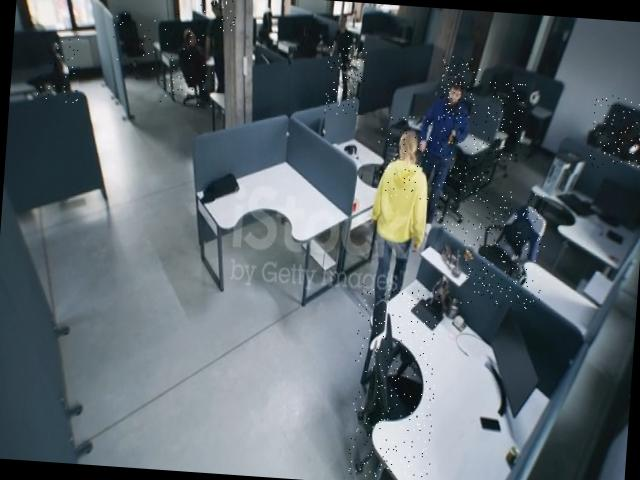empty chair: (346, 280, 442, 480), (457, 188, 548, 310), (431, 127, 493, 235), (374, 114, 433, 190), (108, 2, 157, 80), (482, 82, 525, 160), (36, 33, 82, 104), (324, 44, 366, 117)
occupiedchair: (159, 10, 221, 107), (588, 93, 640, 171)
